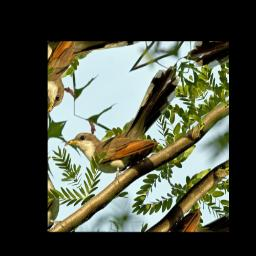Cuckoo: (64, 61, 204, 198)
